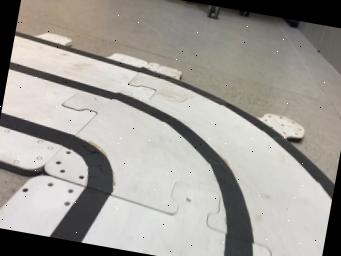street: (0, 29, 334, 256), (0, 29, 334, 256), (0, 29, 334, 256), (0, 29, 334, 256), (0, 29, 334, 256), (0, 29, 334, 256)
